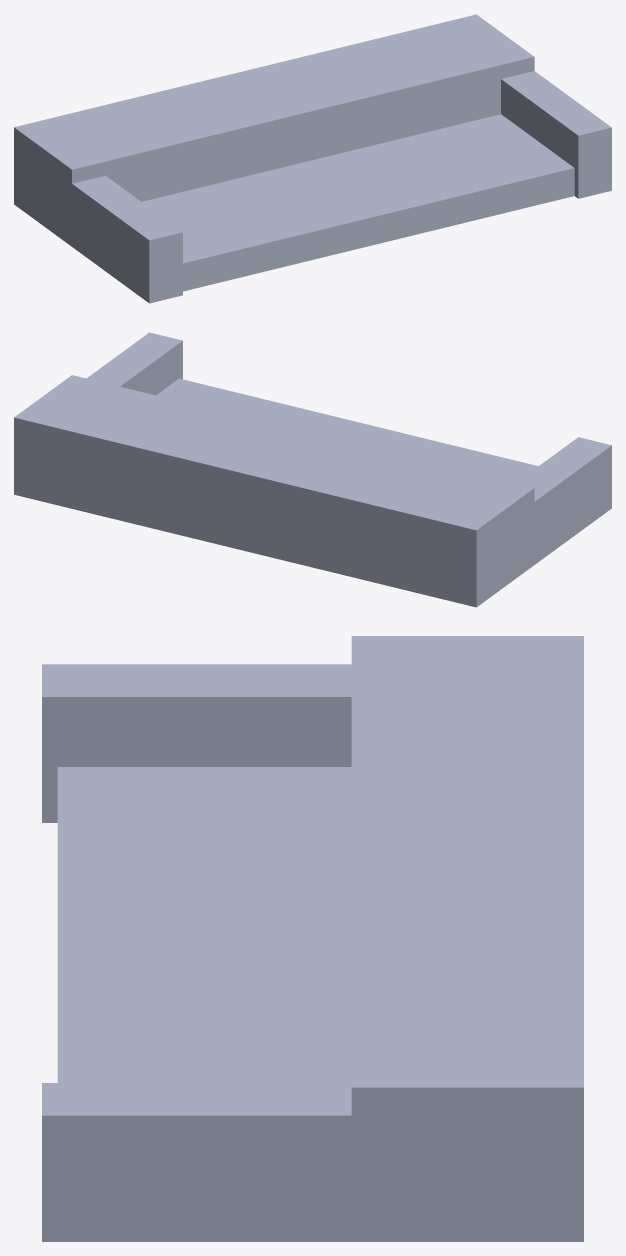
The model's file is Stunning Curcan.glb.
3 renders of one model, top to bottom at view 1: azimuth 30°, elevation 25°; view 2: azimuth 150°, elevation 25°; view 3: azimuth 270°, elevation 25°, orthographic. The views are drawn at different scales.
Parts seen in each view (by area): view 1: Mesh_Mesh_head_geo.001_lambert2SG.001; view 2: Mesh_Mesh_head_geo.001_lambert2SG.001; view 3: Mesh_Mesh_head_geo.001_lambert2SG.001.
Boxes of the visible parts, <box> form: Mesh_Mesh_head_geo.001_lambert2SG.001: <box>14,14,611,303</box>; Mesh_Mesh_head_geo.001_lambert2SG.001: <box>14,332,611,607</box>; Mesh_Mesh_head_geo.001_lambert2SG.001: <box>42,636,583,1241</box>.
Bounding box in the file's own units: 0.069 × 0.011 × 0.035.
